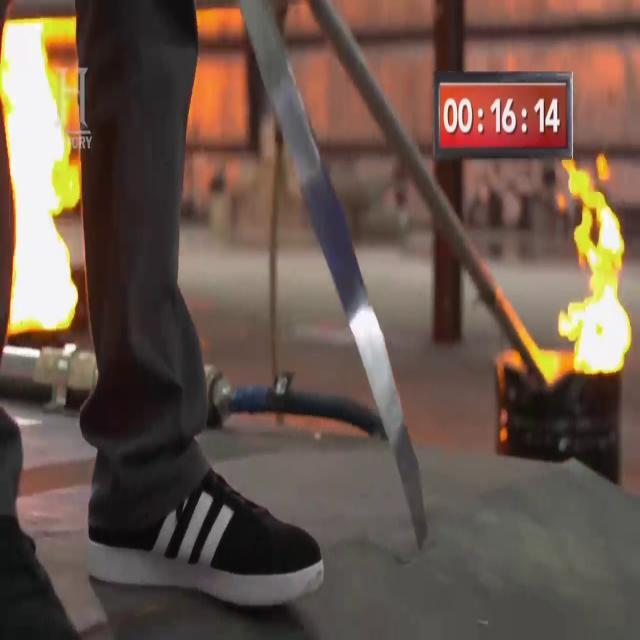Fire: (0, 24, 82, 346), (548, 143, 636, 400)
